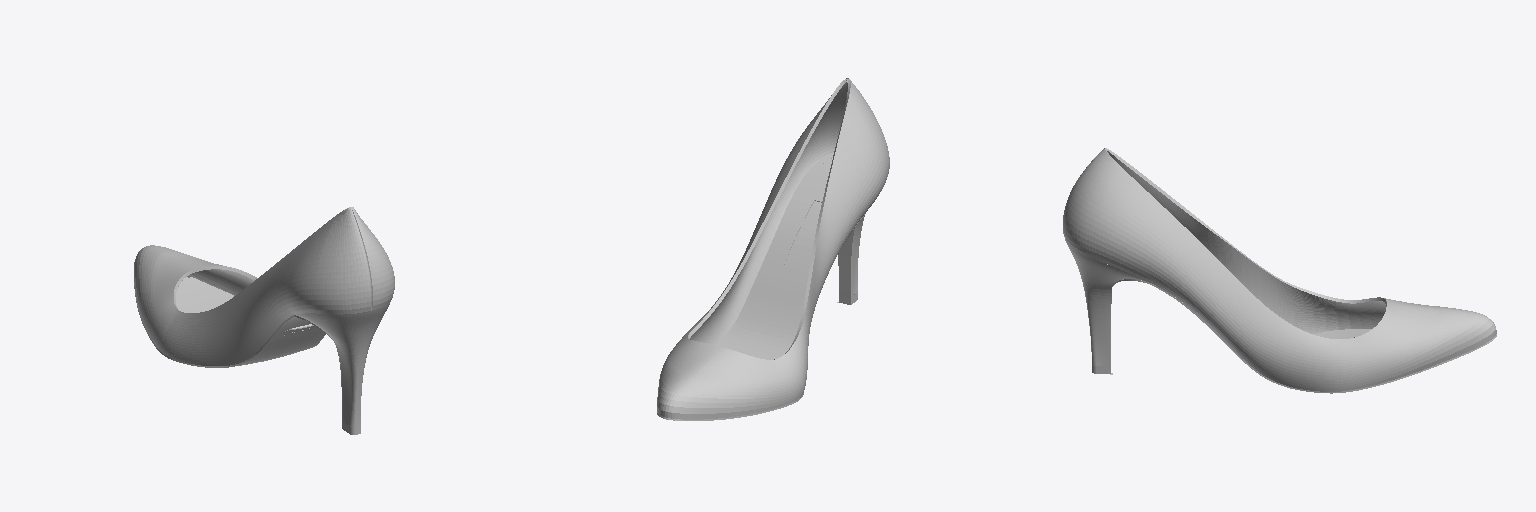
The model's file is PC300AHPLAPL-simple.obj.
3 renders of one model, left to right at view 1: azimuth 30°, elevation 25°; view 2: azimuth 150°, elevation 25°; view 3: azimuth 270°, elevation 25°, orthographic.
Visible parts, largest first — view 1: FR1, HE1, SO1, IN1, LI1; view 2: FR1, IN1, LI1, HG1, FR2, IB1, IL1, SO1; view 3: FR1, LI1, HE1, FR2, SO1.
Boxes of the visible parts, box(x1,y1,x2,y2) form: FR1: box(134, 207, 394, 365); HE1: box(296, 303, 389, 426); SO1: box(134, 277, 342, 420); IN1: box(176, 278, 231, 312); LI1: box(178, 269, 254, 295); FR1: box(657, 78, 889, 419); IN1: box(720, 158, 832, 359); LI1: box(690, 170, 799, 354); HG1: box(794, 82, 847, 181); FR2: box(688, 79, 850, 359); IB1: box(715, 153, 833, 417); IL1: box(784, 201, 821, 271); SO1: box(657, 214, 864, 420); FR1: box(1063, 148, 1496, 391); LI1: box(1141, 180, 1385, 333); HE1: box(1066, 242, 1149, 365); FR2: box(1105, 148, 1386, 337); SO1: box(1110, 279, 1496, 393).
Size of the model in its own units: 81.6 by 140 by 246.